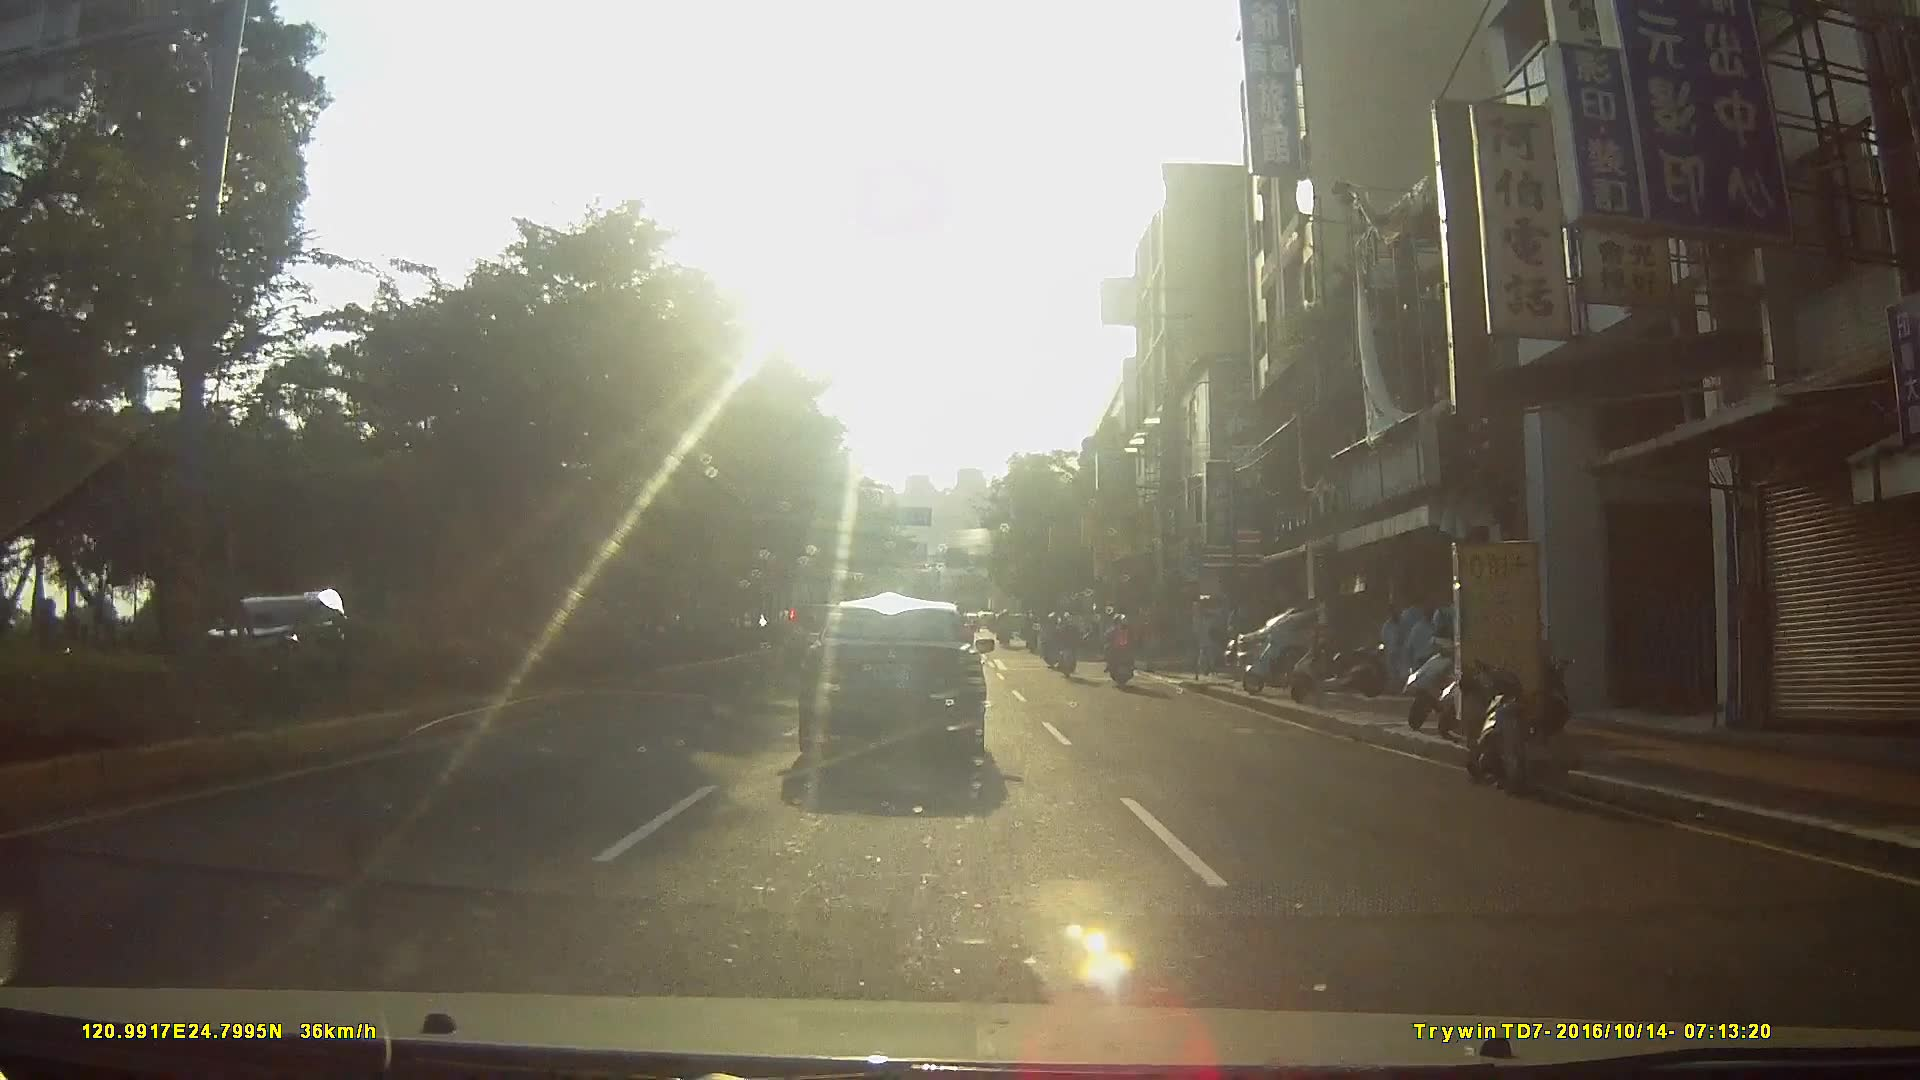rider: (1105, 612, 1138, 690), (1054, 612, 1081, 680), (1042, 611, 1064, 670)
vehicle: (796, 598, 1011, 787), (193, 582, 370, 693)
